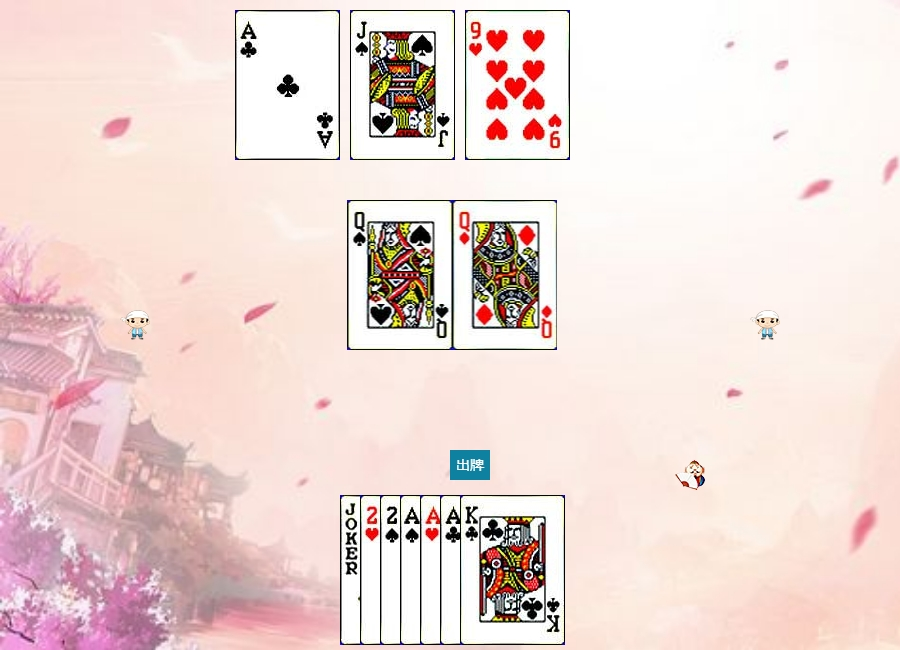11~4: (350, 10, 455, 160)
12~1: (453, 200, 558, 350)
12~4: (348, 200, 453, 350)
13~2: (460, 495, 565, 645)
14~2: (235, 10, 340, 160), (440, 495, 545, 645)
14~3: (420, 495, 525, 645)
14~4: (400, 495, 505, 645)
15~3: (360, 495, 465, 645)
15~4: (380, 495, 485, 645)
17~3: (340, 495, 445, 645)
9~3: (465, 10, 570, 160)
